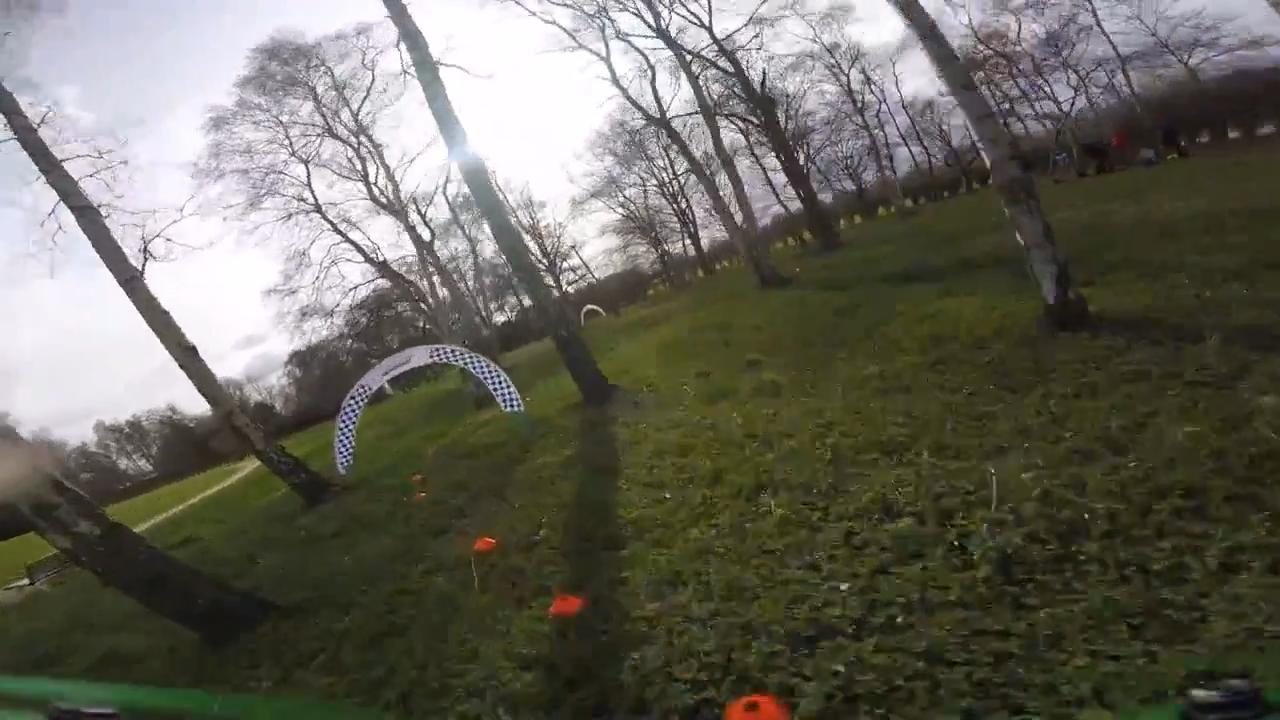gate: (333, 343, 526, 472)
